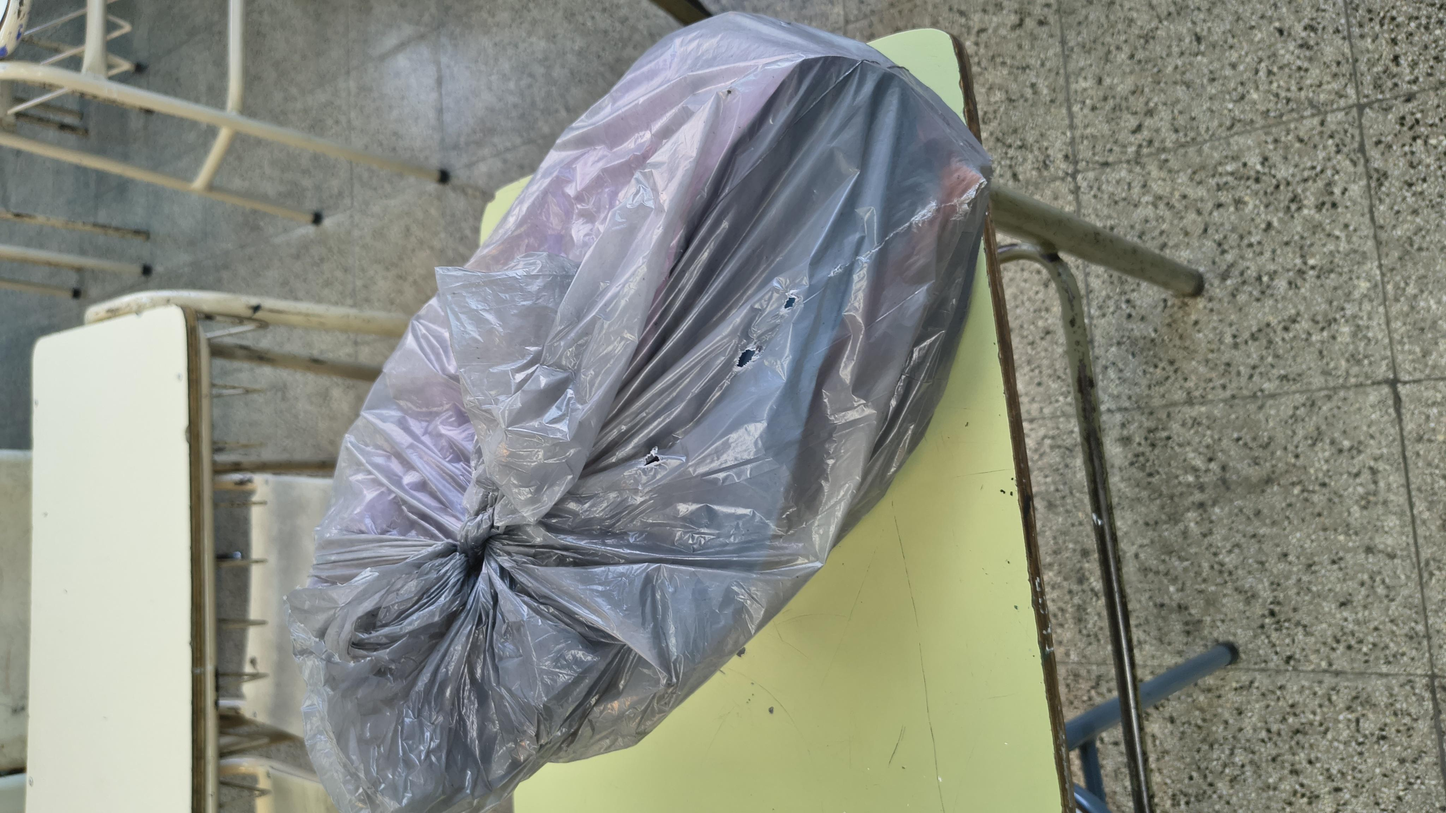Garbage: (0, 121, 1446, 578)
